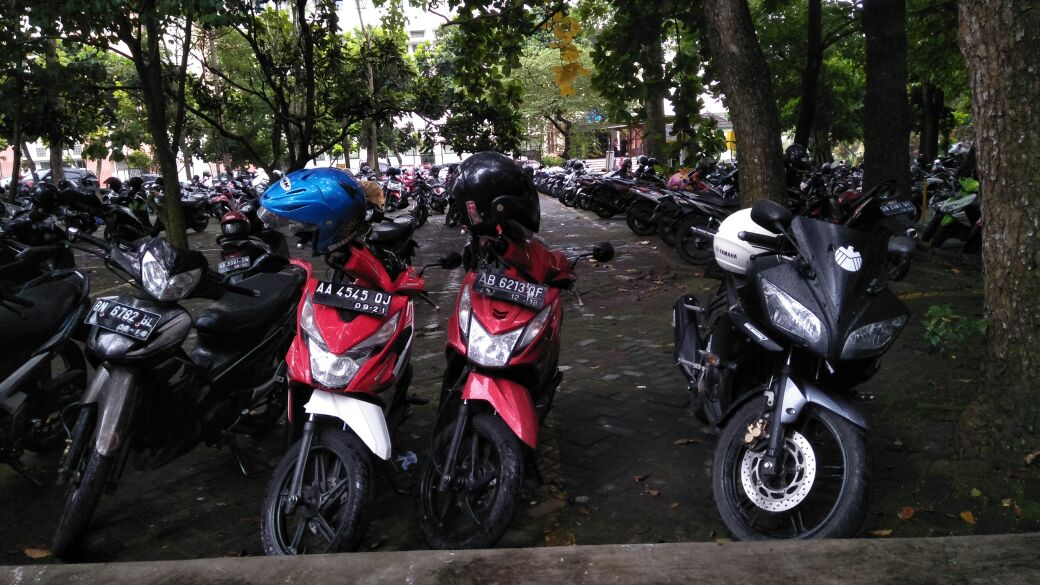plate: (85, 297, 159, 343), (310, 280, 394, 318), (470, 269, 549, 307)
